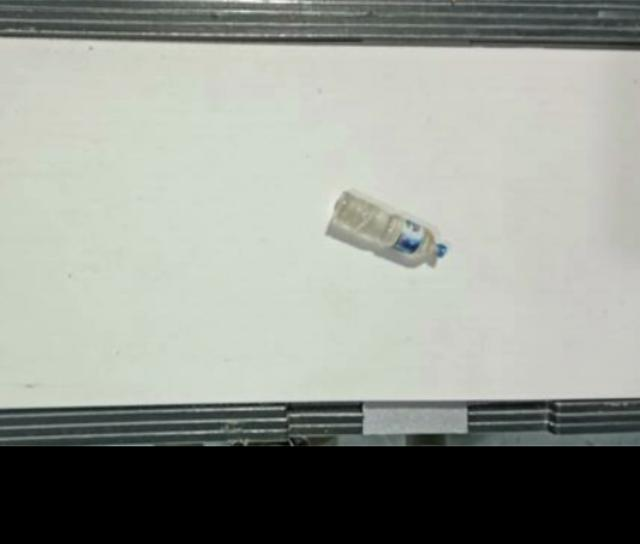Plastik: (331, 190, 448, 258)
